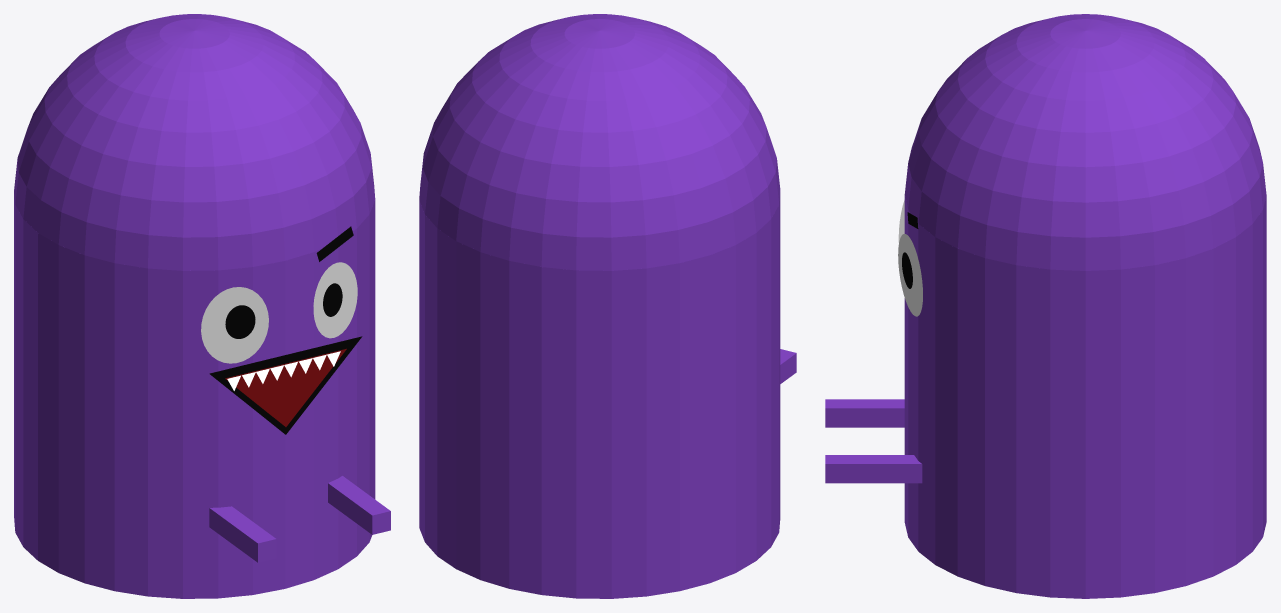
Rendered from NewEnemy3.fbx.
The picture shows the model from 3 angles, left to right: view 1: azimuth 30°, elevation 25°; view 2: azimuth 150°, elevation 25°; view 3: azimuth 270°, elevation 25°; orthographic projection.
Visible parts, largest first — view 1: Sphere, Plane.003, Circle.001, Circle.000, Cube.001, Cube; view 2: Sphere; view 3: Sphere, Cube, Cube.001, Circle.000.
Boxes of the visible parts, x1,y1,x2,y2 form: Sphere: (14, 14, 375, 598); Plane.003: (209, 336, 362, 434); Circle.001: (201, 287, 268, 363); Circle.000: (313, 262, 357, 338); Cube.001: (209, 506, 276, 562); Cube: (328, 476, 390, 534); Sphere: (419, 14, 780, 598); Sphere: (904, 14, 1266, 598); Cube: (825, 455, 922, 483); Cube.001: (825, 399, 904, 427); Circle.000: (898, 234, 922, 316).
Bounding box in the file's own units: 400 × 600 × 488.
